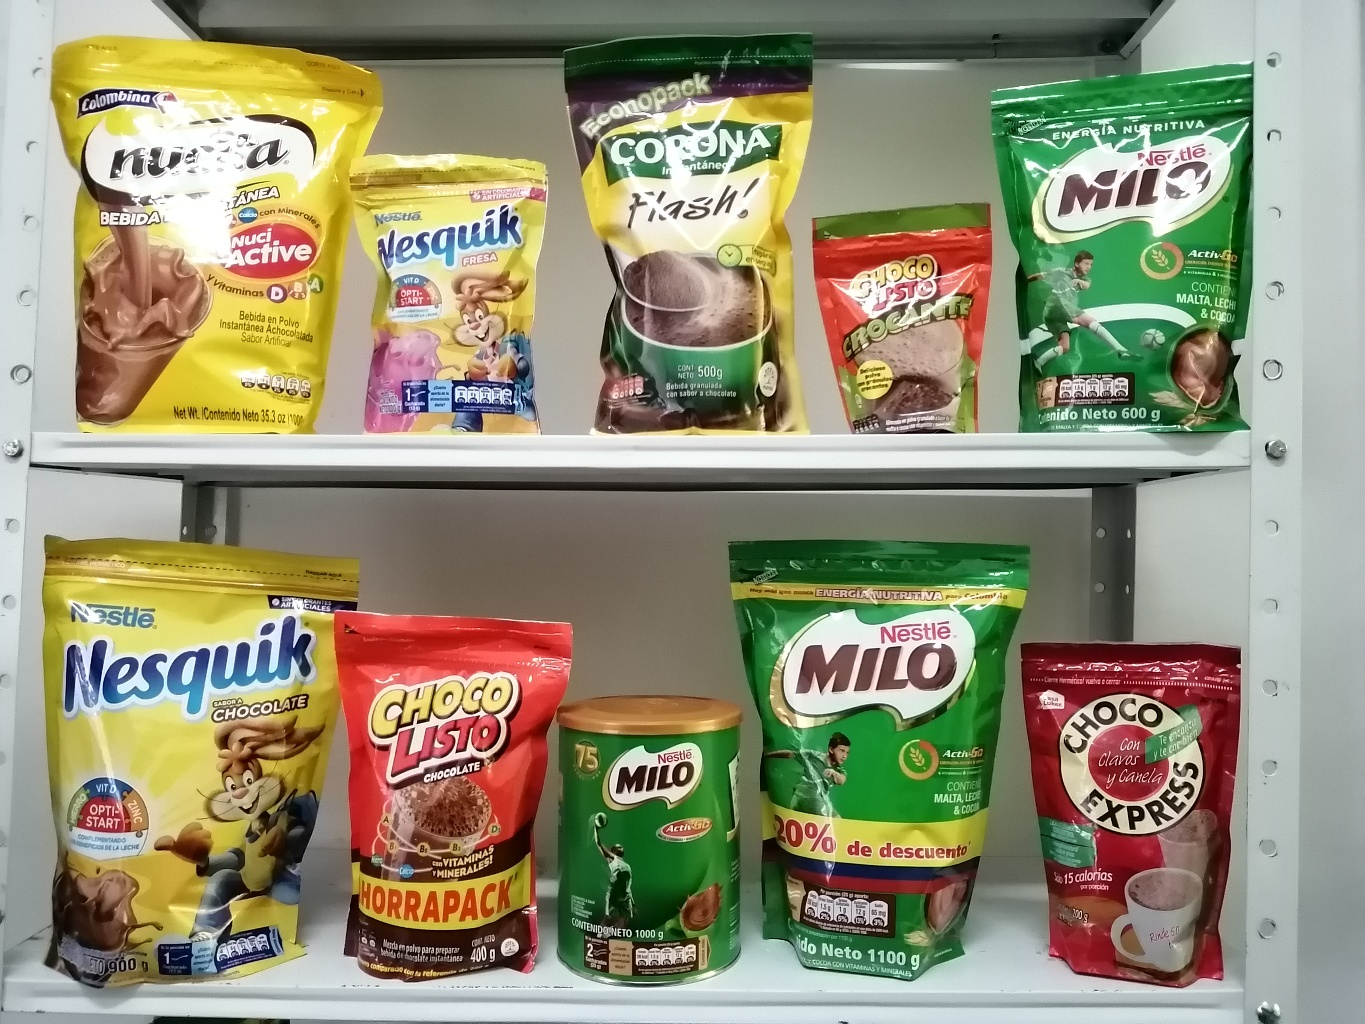COL0170102DYP10000: (807, 201, 1007, 431)
COL0170103DYP40000: (346, 606, 575, 985)
COL0170305DYP20000: (358, 137, 558, 433)
